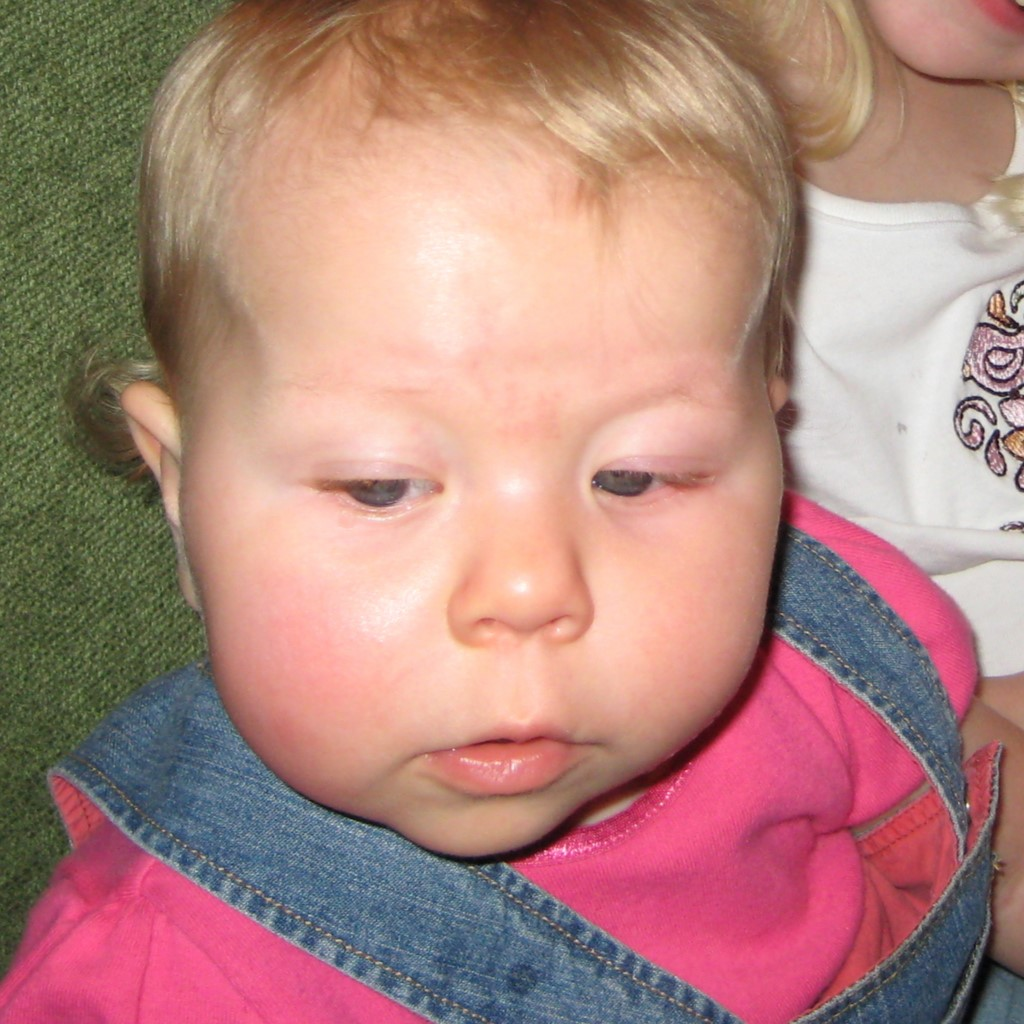sin_mascara: (164, 51, 754, 851)
